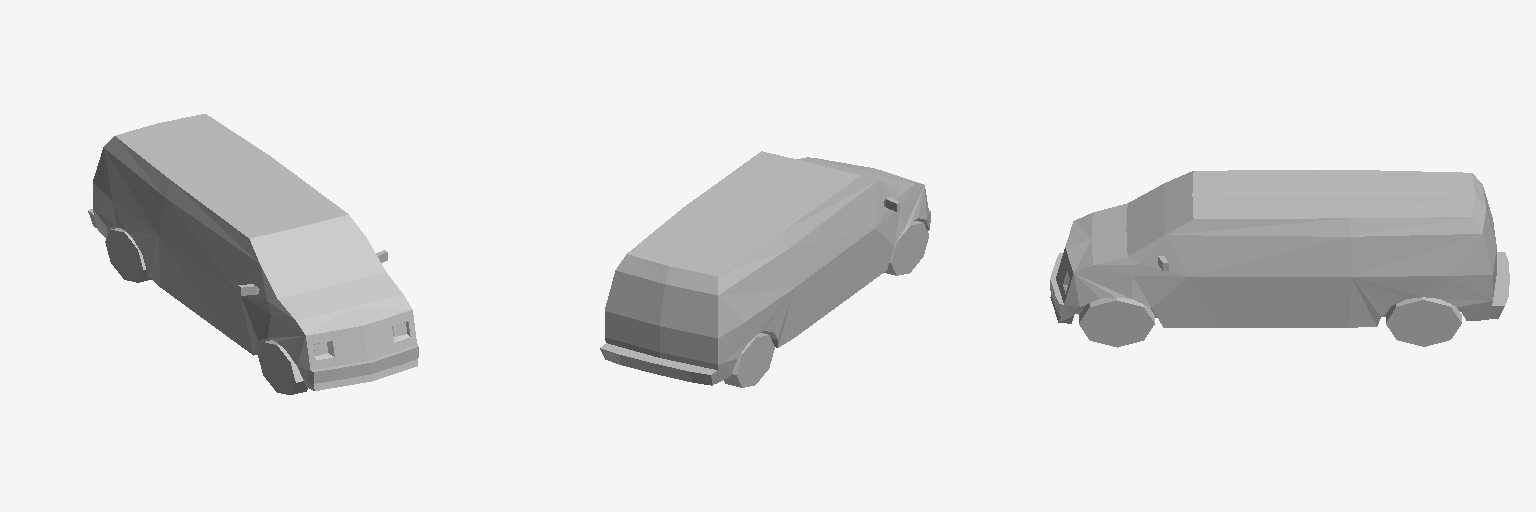
Rendered from Car4_o4.obj.
The picture shows the model from 3 angles: view 1: azimuth 30°, elevation 25°; view 2: azimuth 150°, elevation 25°; view 3: azimuth 270°, elevation 25°; orthographic projection.
Parts seen in each view (by area): view 1: Car4; view 2: Car4; view 3: Car4.
Part boxes in pixels (x1,y1,x2,y2): Car4: (88,114,418,394); Car4: (600,151,930,387); Car4: (1050,170,1509,347).
Bounding box in the file's own units: 1.98 × 1.6 × 5.37.